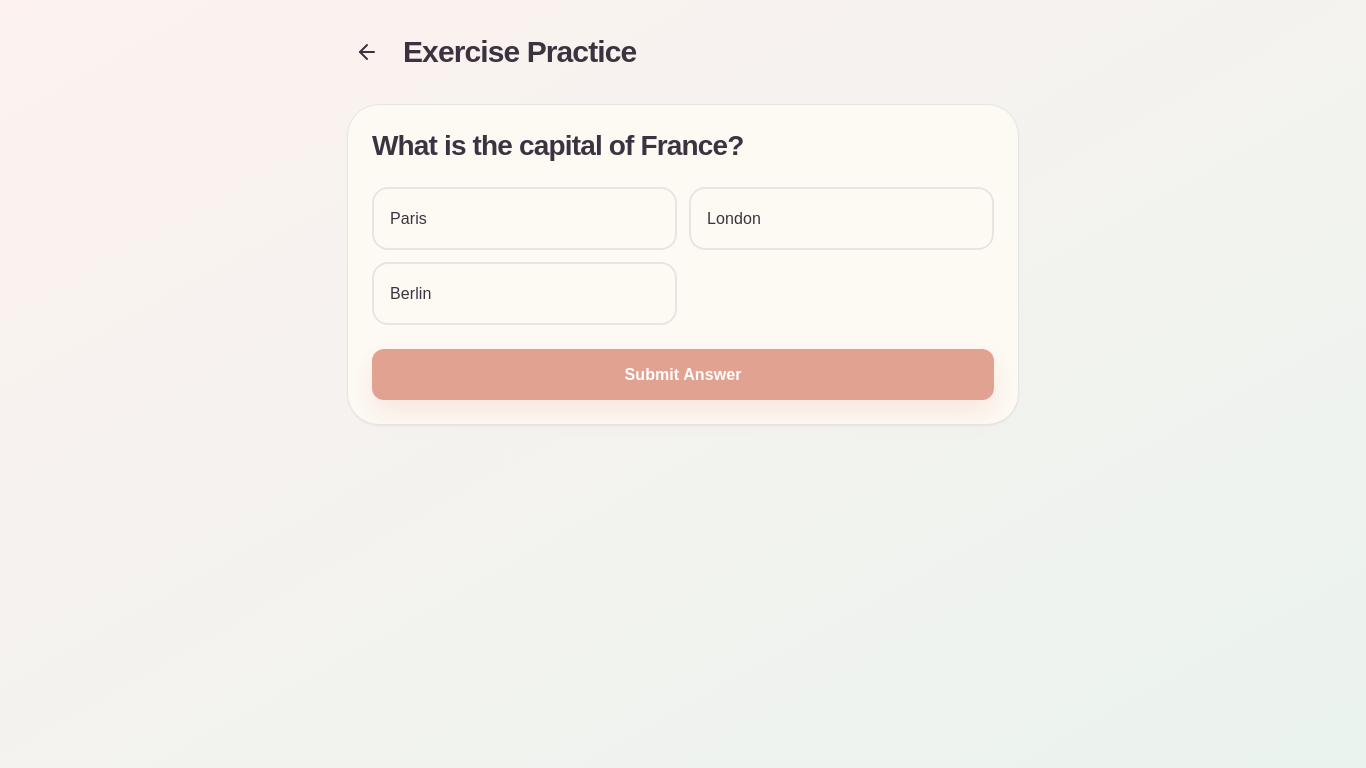
Scenario: ExercisePractice multiple_choice flow › shows incorrect feedback as an alert when the submitted answer is wrong
Click the button "London" at [734, 218], box [689,187,994,250]
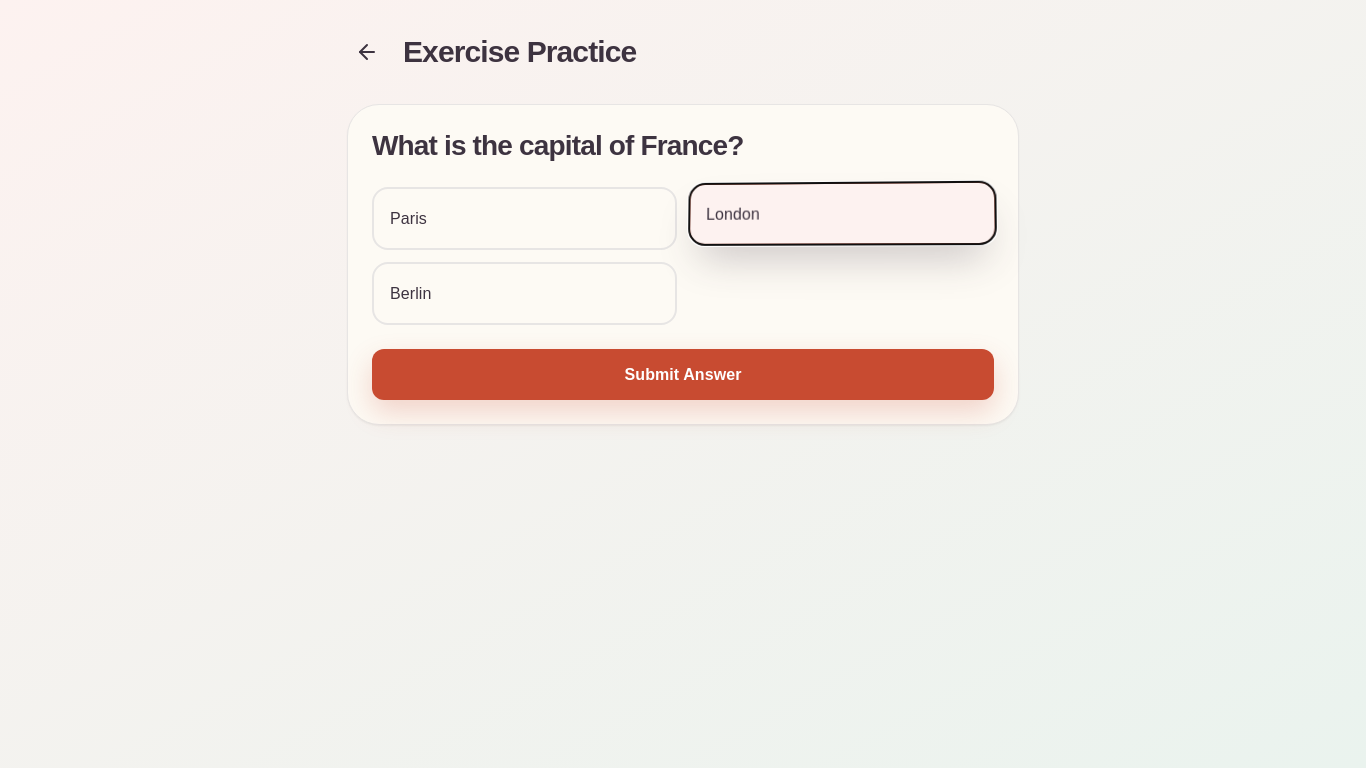
Click the button "Submit Answer" at [683, 375], box [372,349,994,400]
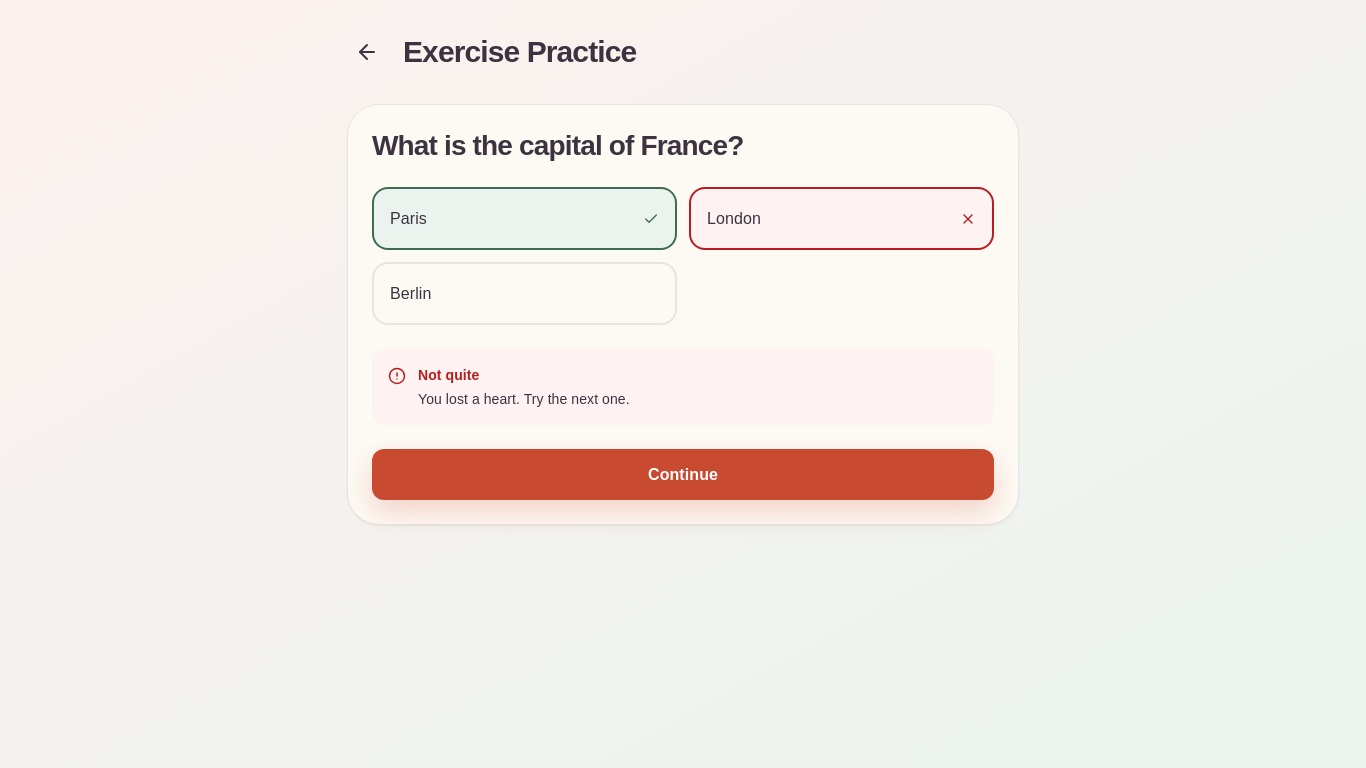
Expected: the message shows "Not quite", [418,367,479,383]
Expected: the message shows "You lost a heart", [418,391,630,407]
